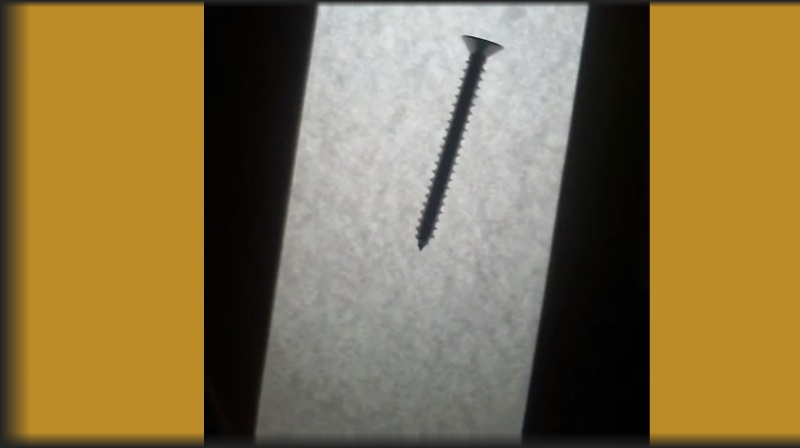S002: (414, 31, 508, 256)
